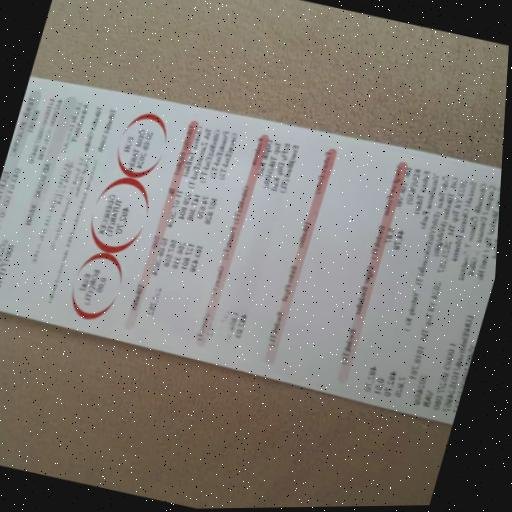electricity-bill: (0, 76, 502, 423)
